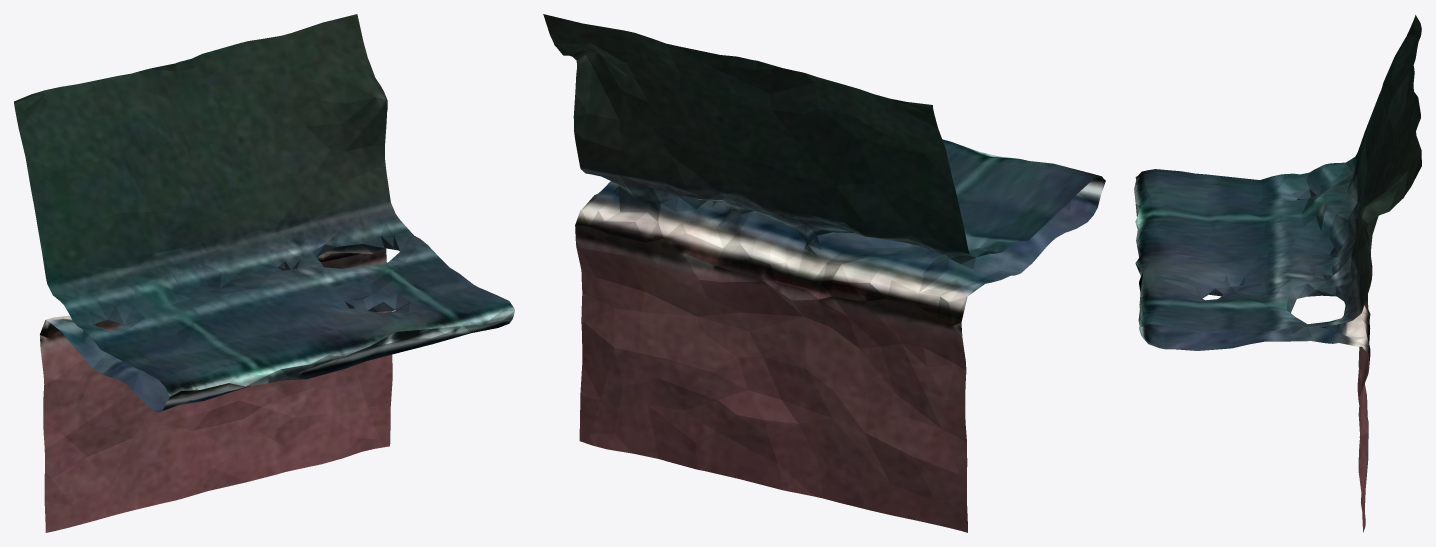
Rendered from tile_5_8_11_tex.obj.
3 renders of one model, left to right at view 1: azimuth 30°, elevation 25°; view 2: azimuth 150°, elevation 25°; view 3: azimuth 270°, elevation 25°, orthographic. The views are drawn at different scales.
Visible parts, largest first — view 1: obj_0; view 2: obj_0; view 3: obj_0.
Part boxes in pixels (<box>): obj_0: <box>14,14,514,532</box>; obj_0: <box>543,14,1105,532</box>; obj_0: <box>1134,15,1421,532</box>.
Bounding box in the file's own units: 5.01 × 5.64 × 4.01.
Materials: 1 (1 with a texture image).
